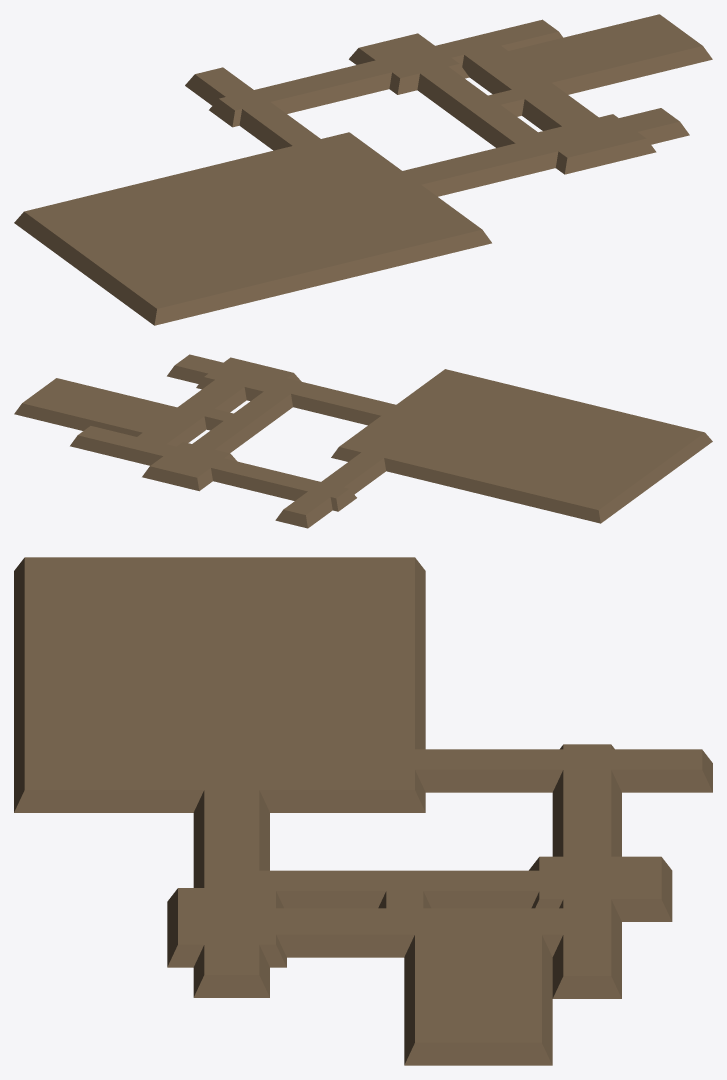
Rendered from SM_Jinyang_Ground.fbx.
3 renders of one model, top to bottom at view 1: azimuth 30°, elevation 25°; view 2: azimuth 150°, elevation 25°; view 3: azimuth 270°, elevation 25°, orthographic. The views are drawn at different scales.
Visible parts, largest first — view 1: SM_Jinyang_Ground; view 2: SM_Jinyang_Ground; view 3: SM_Jinyang_Ground.
Part boxes in pixels (left/top/right/bottom): SM_Jinyang_Ground: left=14, top=14, right=712, bottom=325; SM_Jinyang_Ground: left=14, top=354, right=712, bottom=528; SM_Jinyang_Ground: left=14, top=557, right=712, bottom=1065.
Size of the model in its own units: 4890 by 85 by 2920.
